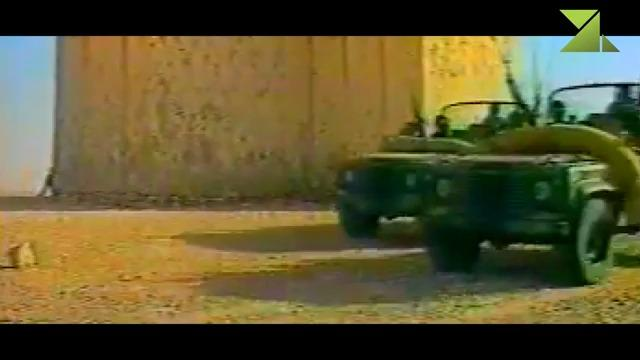MIL_HMMWV: (416, 77, 640, 285), (326, 99, 527, 237)
